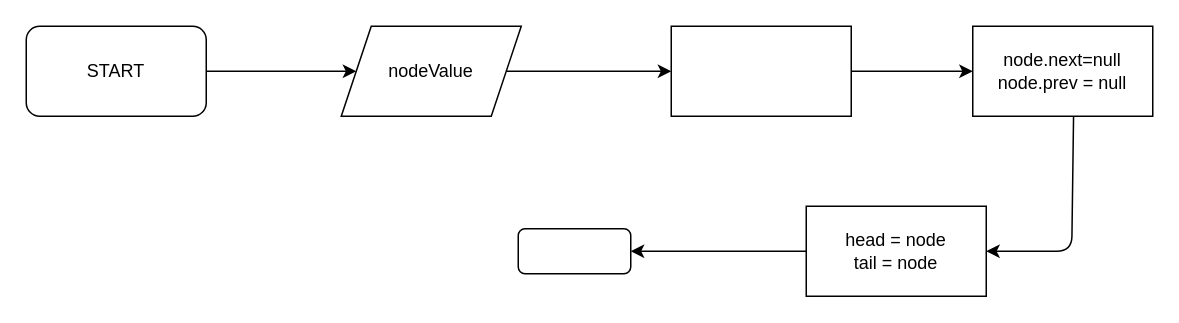
This 1179x323 diagram has some shape labels left out. The shapes that lost their labels are listed below. From the top down, each one's centre as x and y in pixels, then its label:
At point 760,70: "- Create Blank Node -node.value = nodeValue".
At point 574,250: "TERMINATE".
